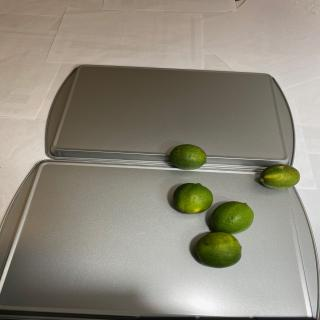Lemon: (195, 232, 242, 268), (210, 201, 254, 234), (173, 182, 213, 214), (260, 164, 300, 189), (169, 144, 207, 170)
